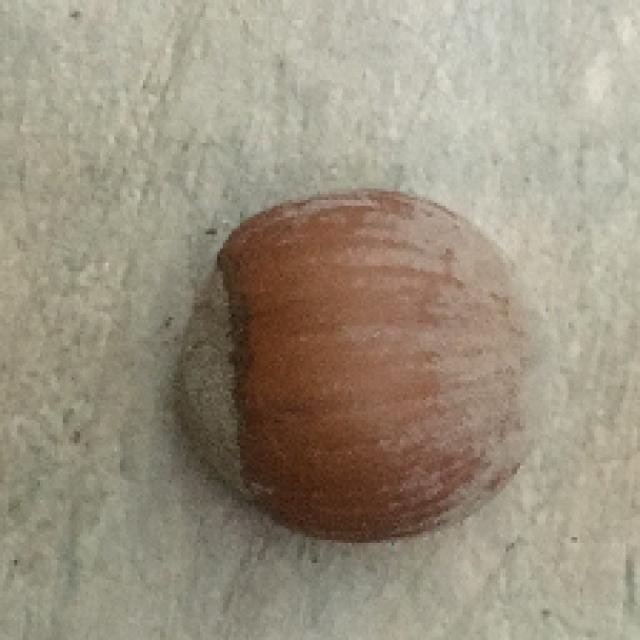qualityHazelnut: (169, 191, 568, 552)
